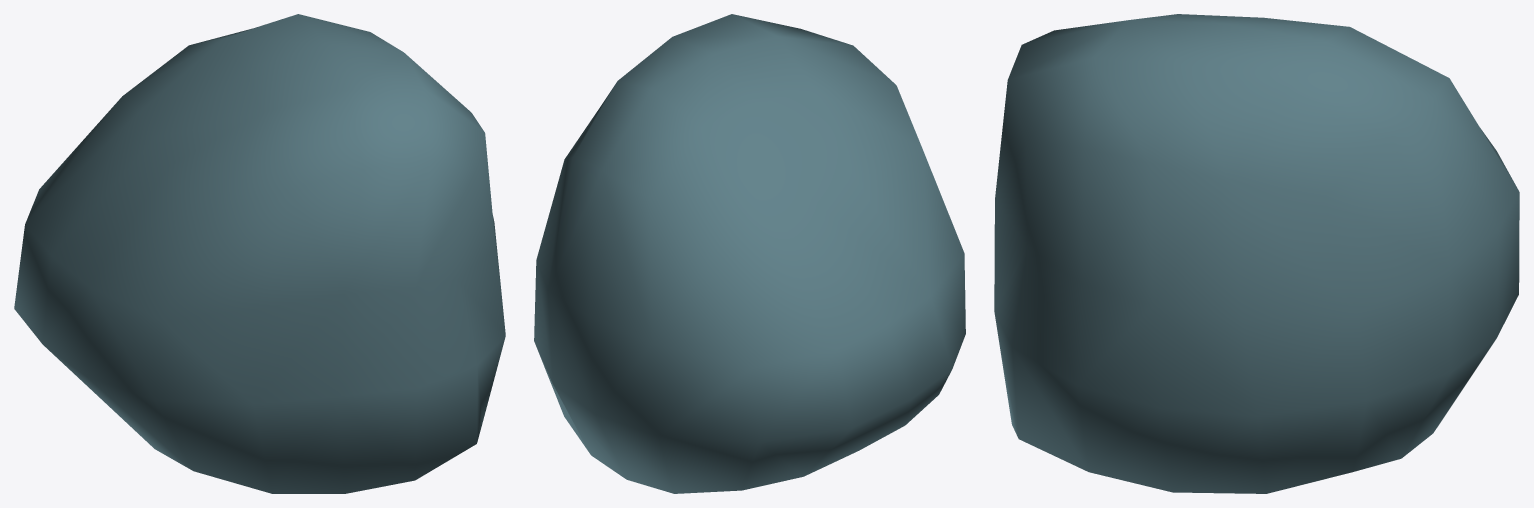
The model's file is Rock_C_02_LOD2.gltf.
3 views of the same model, side by side, from view 1: azimuth 30°, elevation 25°; view 2: azimuth 150°, elevation 25°; view 3: azimuth 270°, elevation 25° (orthographic). The views are drawn at different scales.
Visible parts, largest first — view 1: Rock_C_02_LOD2_Cube.761; view 2: Rock_C_02_LOD2_Cube.761; view 3: Rock_C_02_LOD2_Cube.761.
Boxes of the visible parts, box(x1,y1,x2,y2) form: Rock_C_02_LOD2_Cube.761: box(14, 14, 505, 493); Rock_C_02_LOD2_Cube.761: box(534, 14, 965, 493); Rock_C_02_LOD2_Cube.761: box(994, 14, 1519, 493).
Bounding box in the file's own units: 3.71 × 3.46 × 3.89.
1 material, 1 textured.
